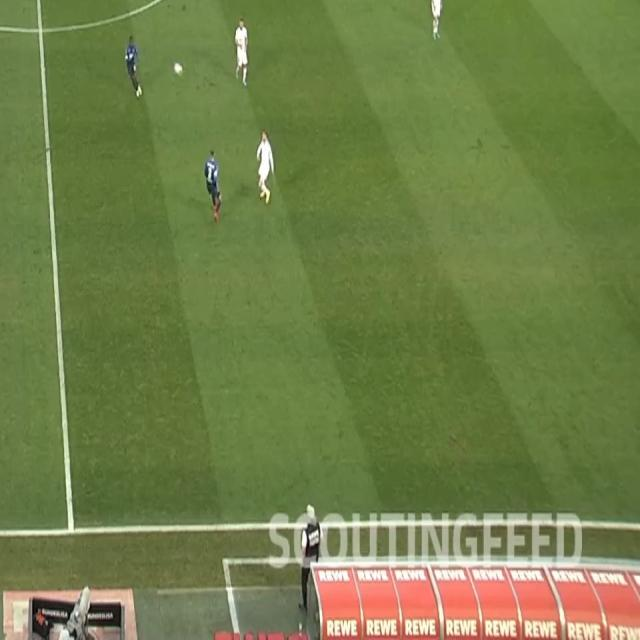ball: (172, 59, 184, 78)
